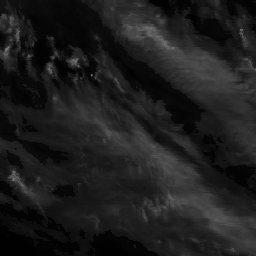Target: (89, 72, 94, 78)
